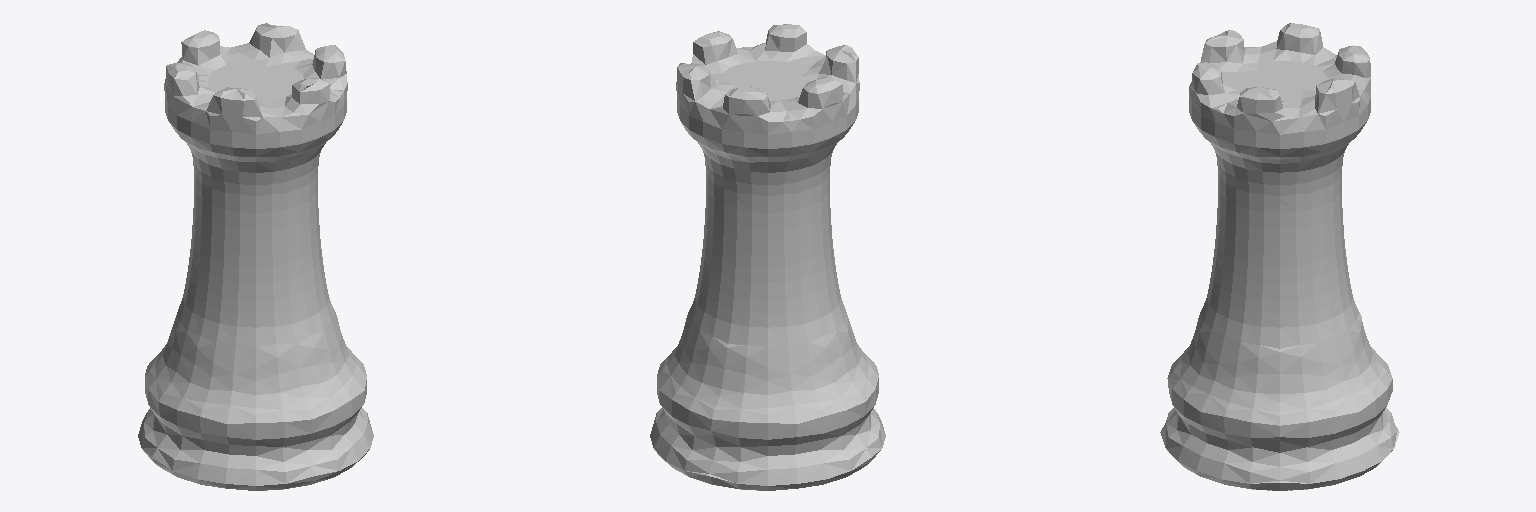
The model's file is Rook.obj.
3 views of the same model, side by side, from view 1: azimuth 30°, elevation 25°; view 2: azimuth 150°, elevation 25°; view 3: azimuth 270°, elevation 25° (orthographic).
Bounding box in the file's own units: 13.11 × 23.87 × 13.11.